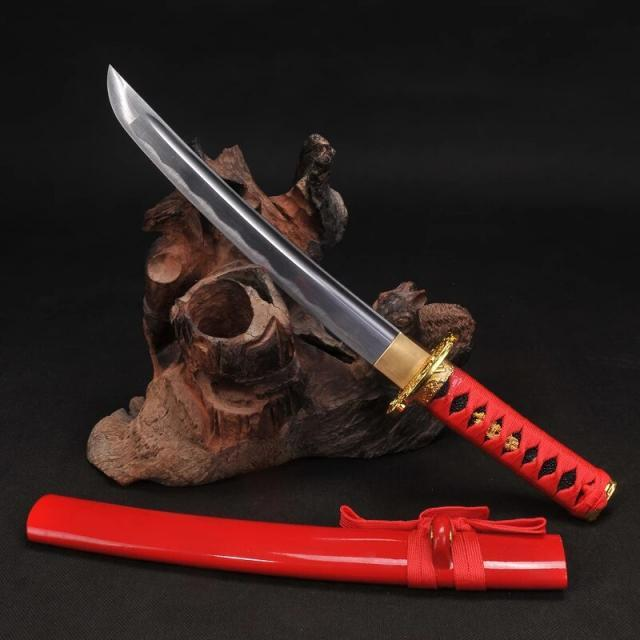short sword: (21, 45, 622, 592)
